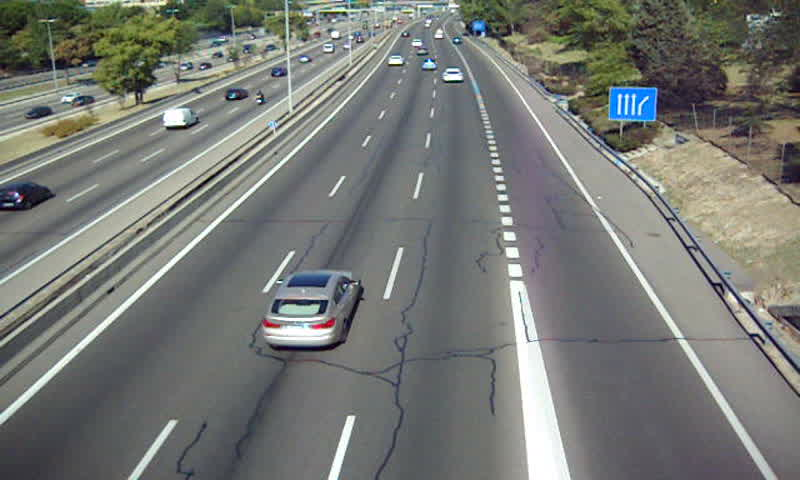car: (262, 270, 364, 347), (442, 67, 465, 83), (387, 55, 405, 67)
